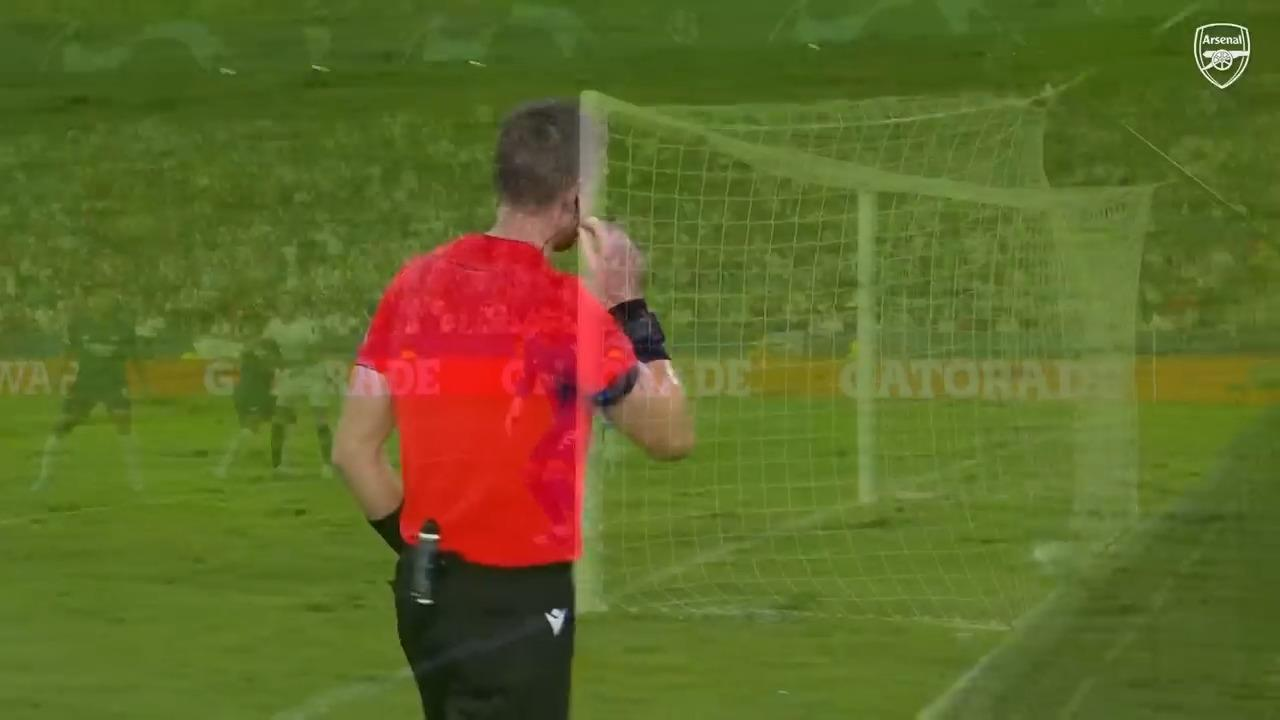Referee: (329, 85, 703, 720)
